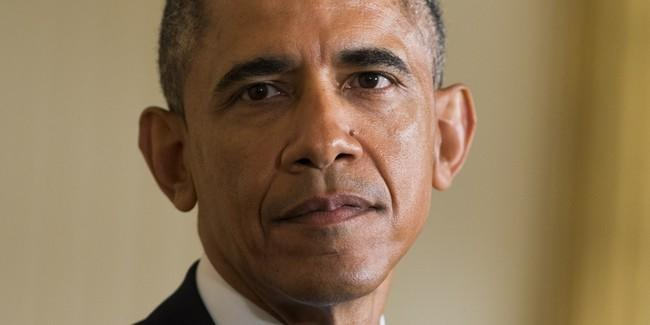mole: (343, 125, 359, 141)
